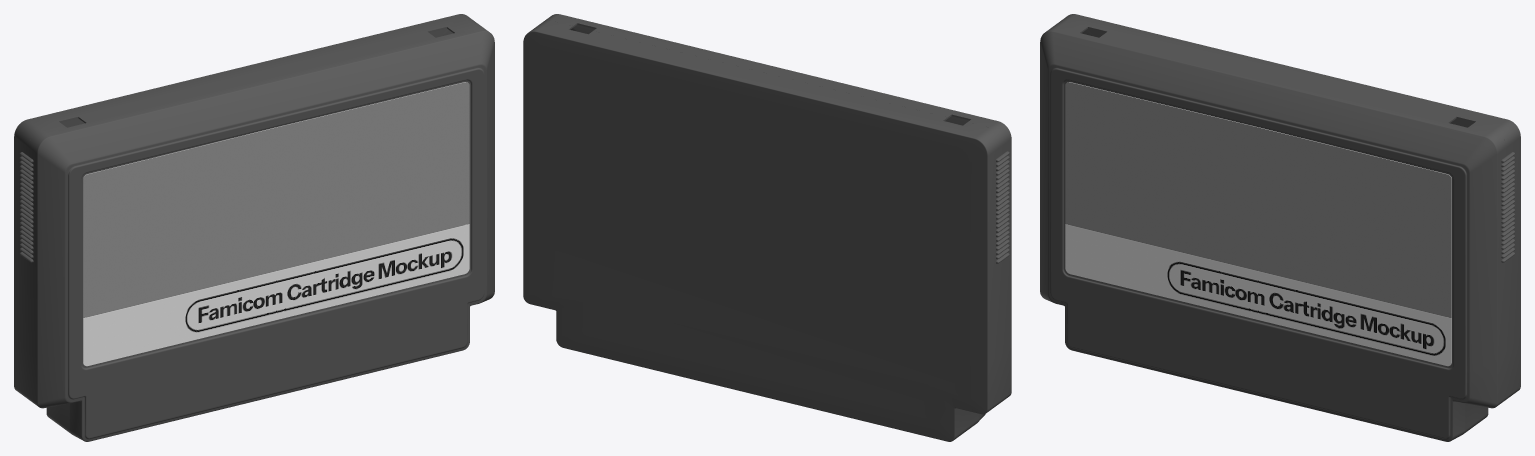
The model's file is famicom_cartridge.glb.
The picture shows the model from 3 angles, left to right: view 1: azimuth 30°, elevation 25°; view 2: azimuth 150°, elevation 25°; view 3: azimuth 330°, elevation 25°; orthographic projection.
Parts seen in each view (by area): view 1: Label, Cartridge, Backplate, Ridges; view 2: Backplate, Cartridge, Ridges; view 3: Label, Cartridge, Backplate, Ridges.
Part boxes in pixels (box(x1,y1,x2,y2)): Label: box(83, 82, 469, 366); Cartridge: box(28, 24, 494, 441); Backplate: box(14, 14, 480, 426); Ridges: box(19, 152, 33, 262); Backplate: box(523, 20, 1002, 441); Cartridge: box(544, 14, 1011, 429); Ridges: box(996, 151, 1009, 263); Label: box(1065, 82, 1451, 366); Cartridge: box(1040, 24, 1506, 441); Backplate: box(1054, 14, 1520, 426); Ridges: box(1501, 152, 1515, 262).
Bounding box in the file's own units: 0.1096 × 0.069 × 0.014.
Materials: 4 (1 with a texture image).
